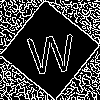W: (25, 25, 77, 75)
